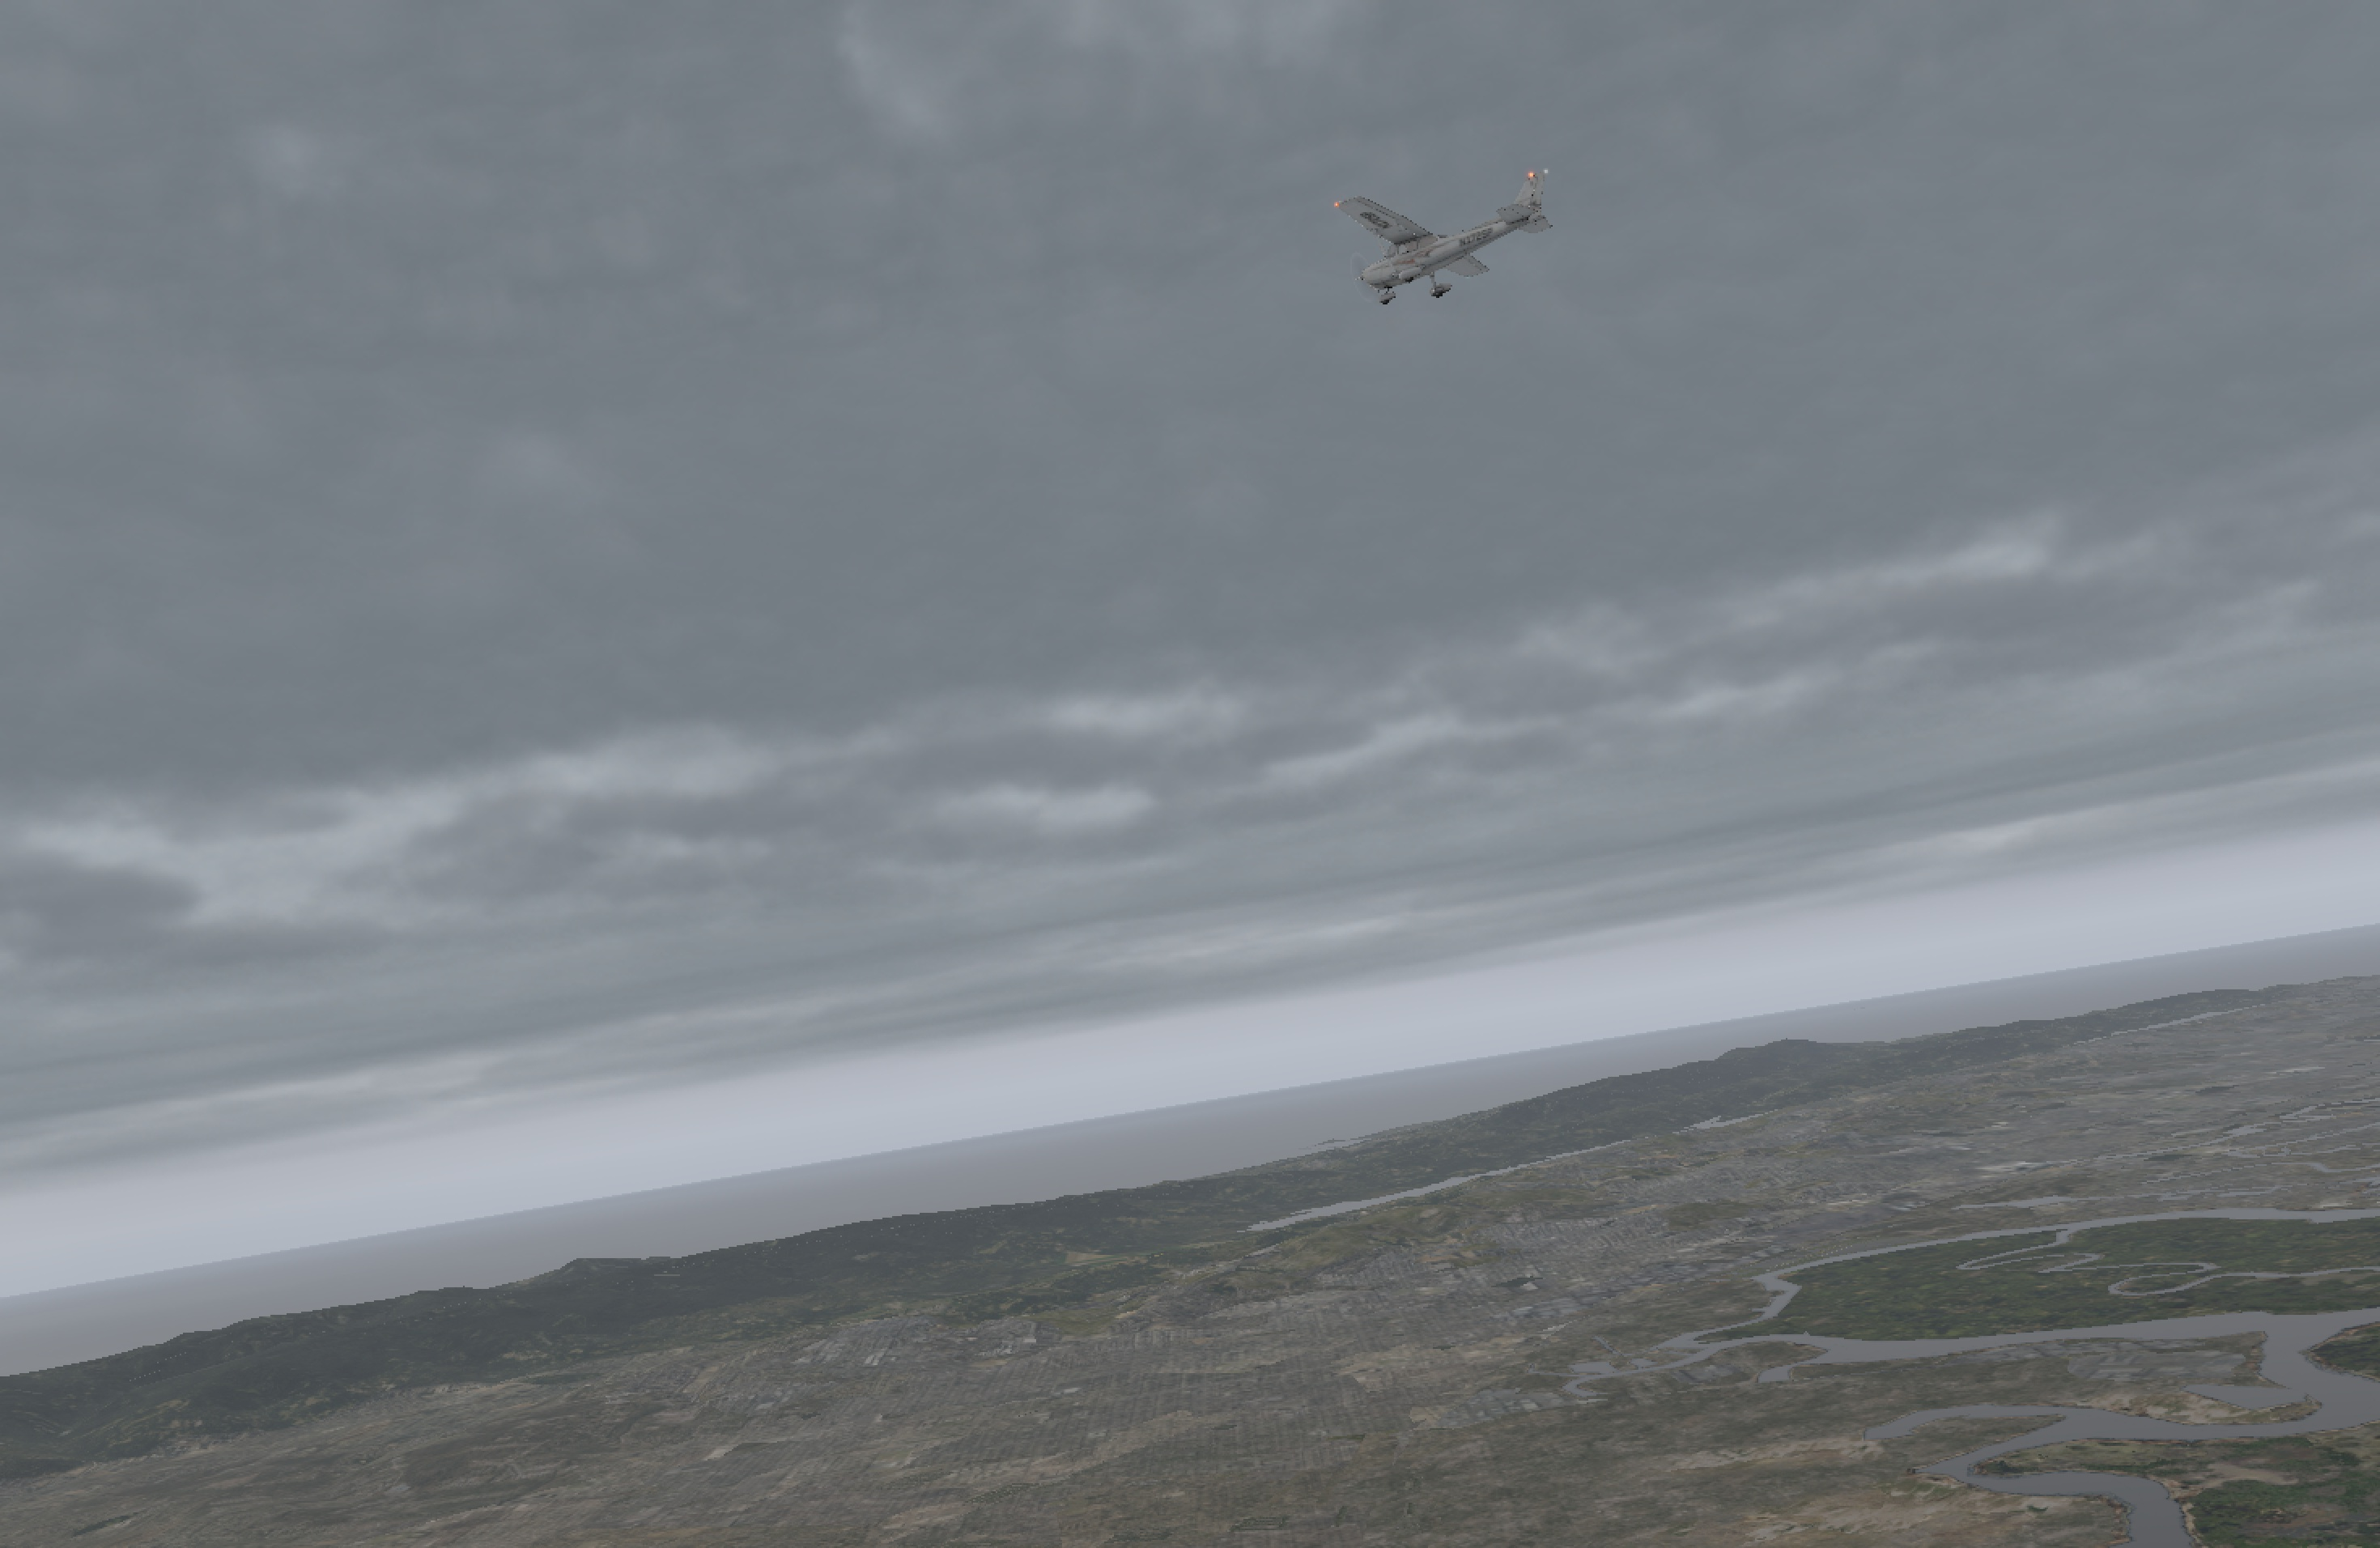aircraft: (1311, 220, 1513, 295)
